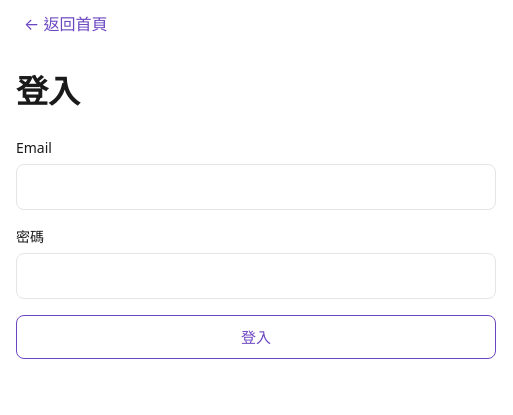
Scenario: LoginPage › shows a generic message for a non-400 error
Type "a@b.com" into the field labelled "Email" at (256, 187), box [16, 164, 496, 210]
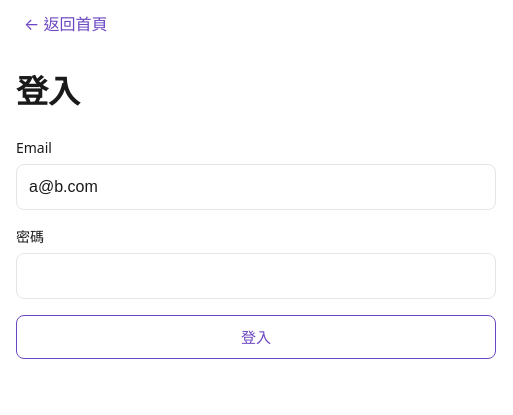
Type "password123" into the password field labelled "密碼" at (256, 276), box [16, 253, 496, 299]
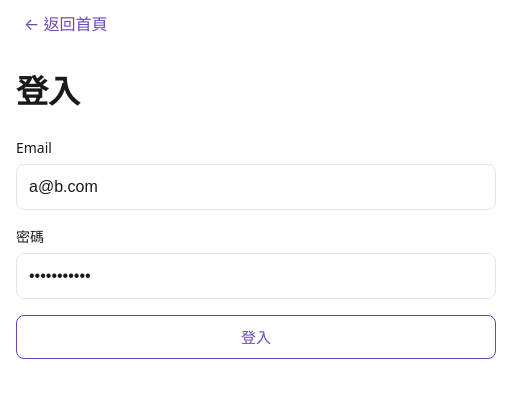
Click the button "登入" at (256, 337), box [16, 315, 496, 359]
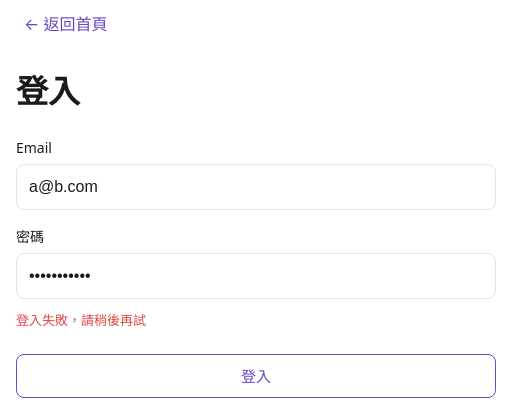
Now the text "登入失敗，請稍後再試" is shown, box [16, 311, 146, 329]
